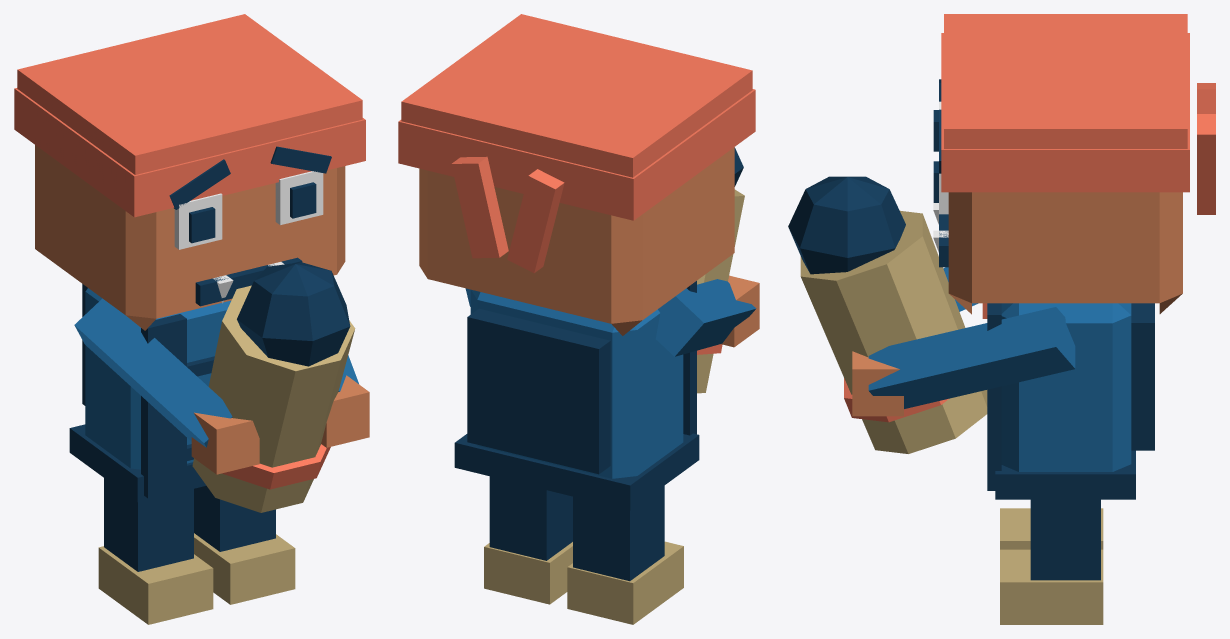
Rendered from mortar_r15.glb.
3 views of the same model, side by side, from view 1: azimuth 30°, elevation 25°; view 2: azimuth 150°, elevation 25°; view 3: azimuth 270°, elevation 25° (orthographic). The views are drawn at different scales.
Visible parts, largest first — view 1: mortar_r15_mesh; view 2: mortar_r15_mesh; view 3: mortar_r15_mesh.
Boxes of the visible parts, x1=… form: mortar_r15_mesh: x1=14, y1=14, x2=369, y2=624; mortar_r15_mesh: x1=398, y1=14, x2=759, y2=624; mortar_r15_mesh: x1=788, y1=14, x2=1215, y2=624.
Size of the model in its own units: 0.8588 by 1.7 by 1.28.
1 material, 1 textured.
